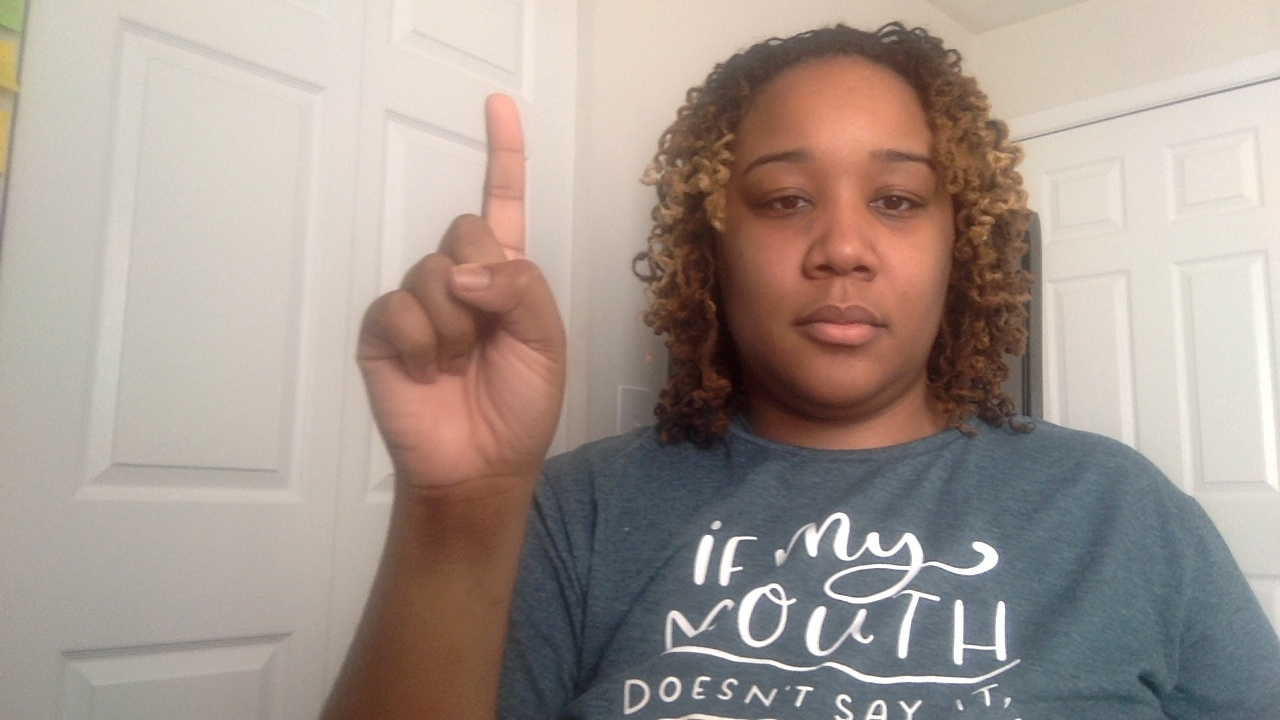up: (327, 86, 615, 720)
